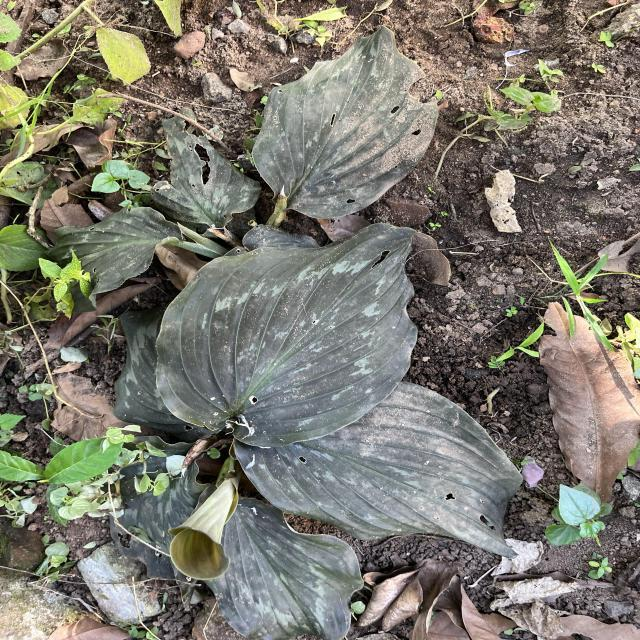Kaempferia galanga linn: (152, 220, 422, 452), (230, 378, 526, 564), (248, 23, 440, 221)
